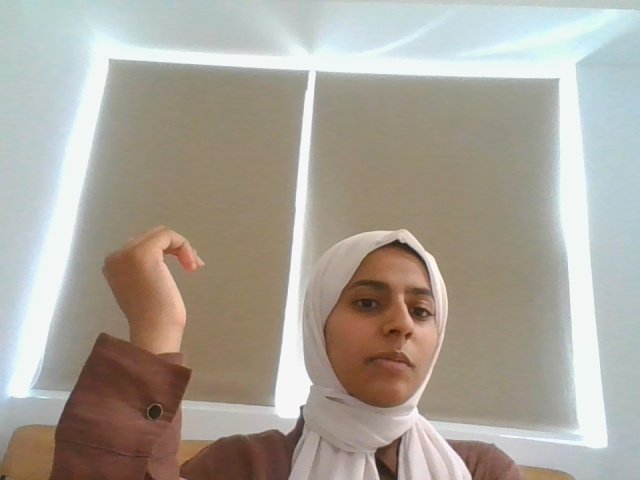morning: (67, 212, 260, 480)
